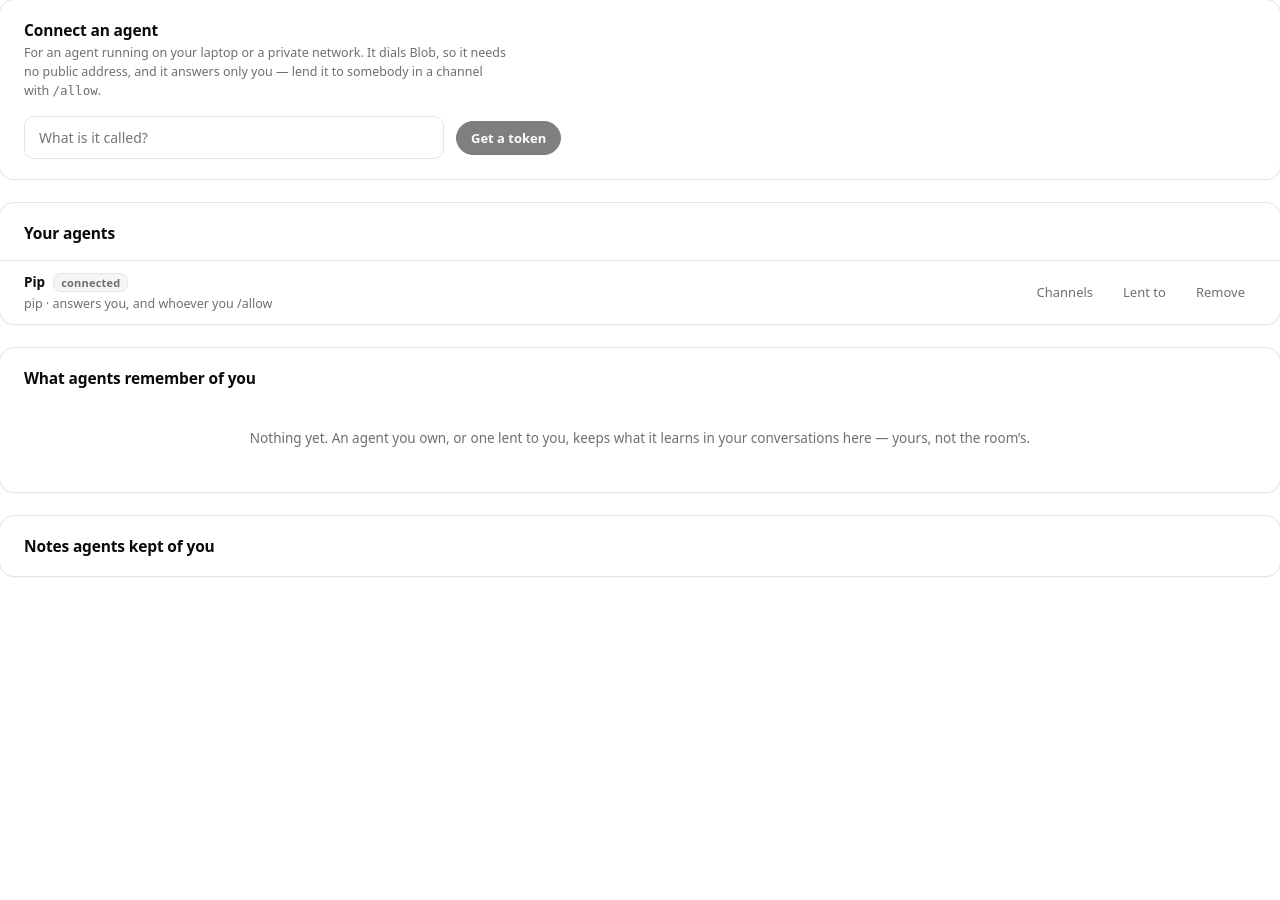
Test case: who your agent is lent to › lists the loans and ends one
Click the button "Lent to": (1144, 292) [1112,276,1177,308]
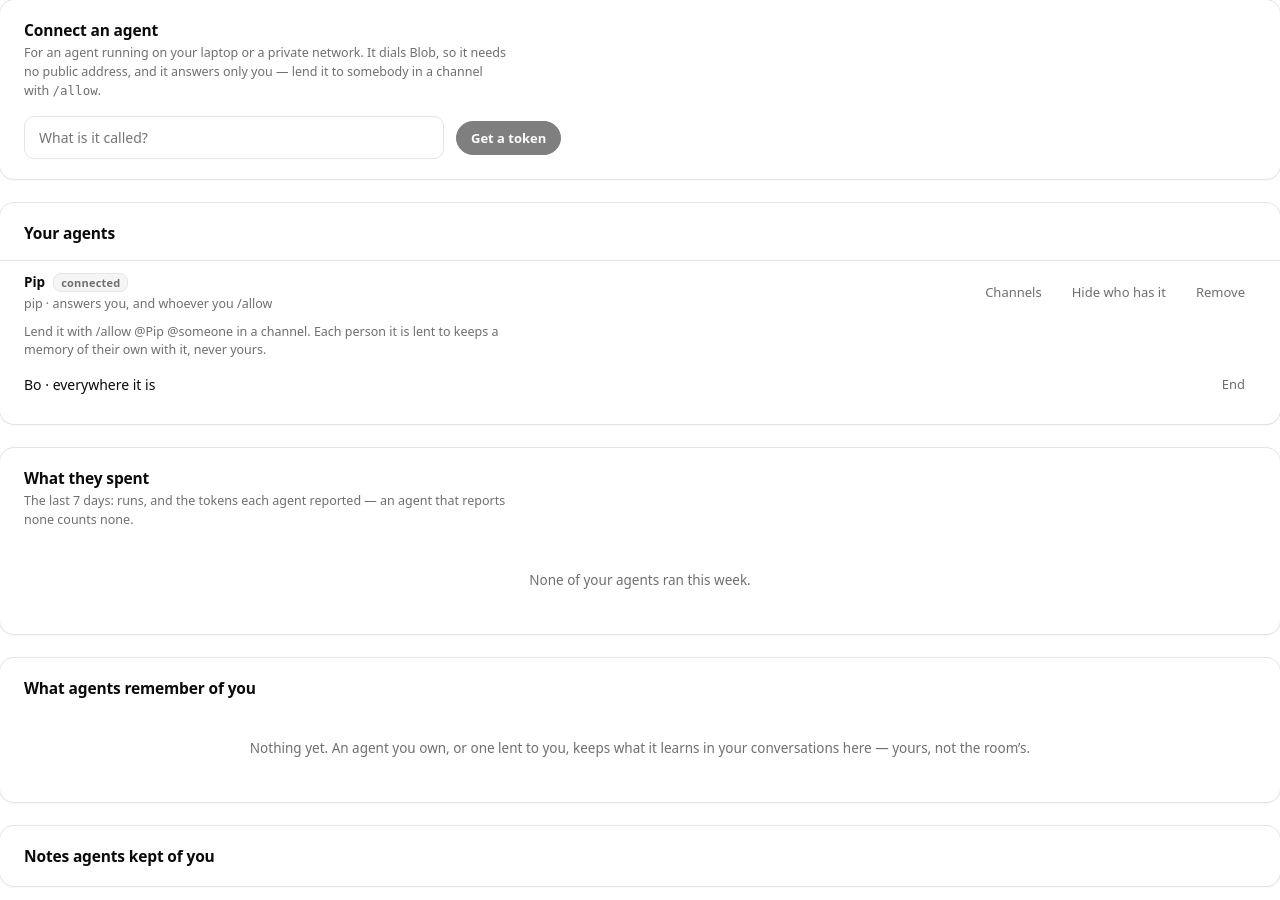
Expected: the text "Bo · everywhere it is" is shown, [24,374,155,394]
Click the button "End": (1233, 384) [1211,368,1256,400]
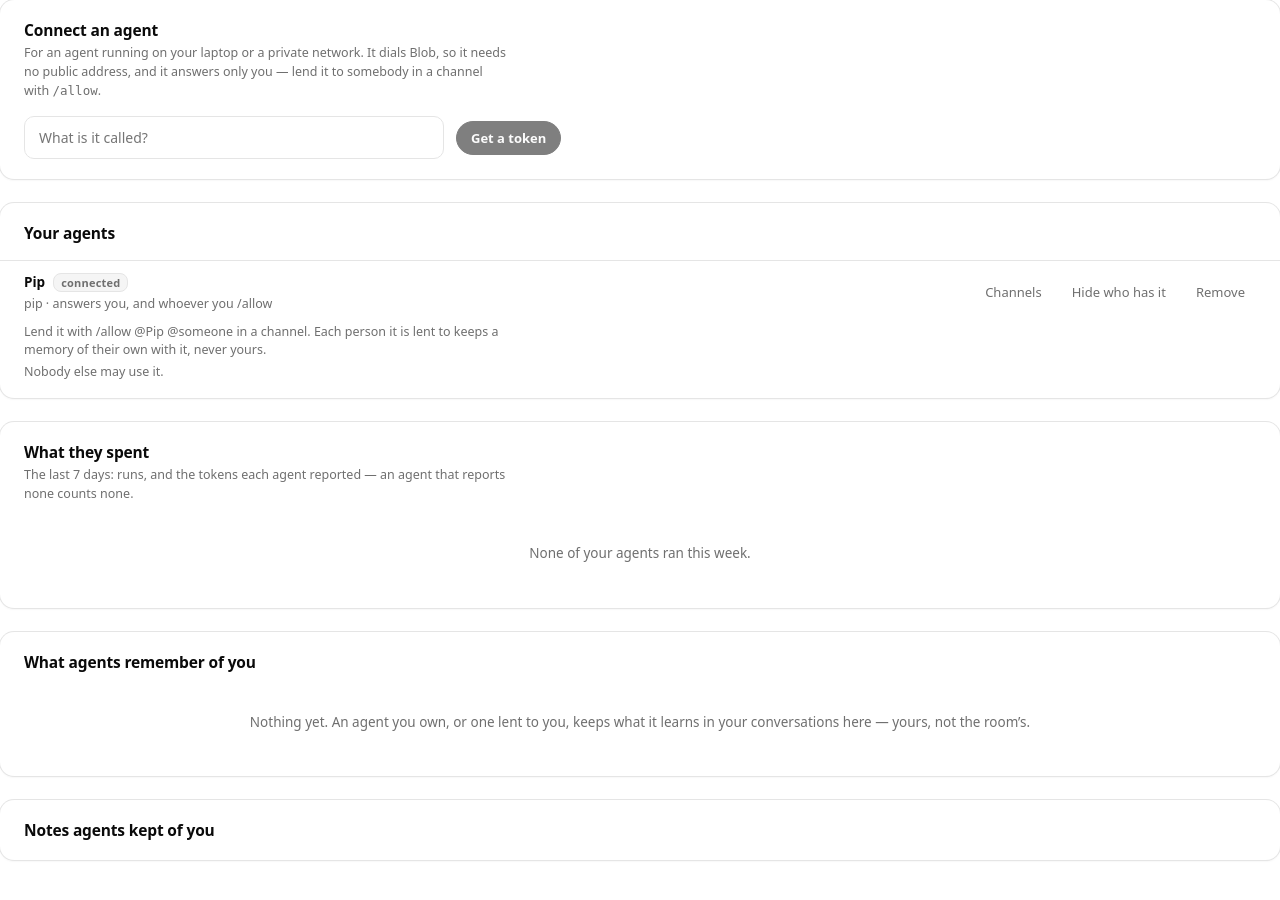
Expected: the text "Nobody else may use it." is shown, [24,363,164,380]
